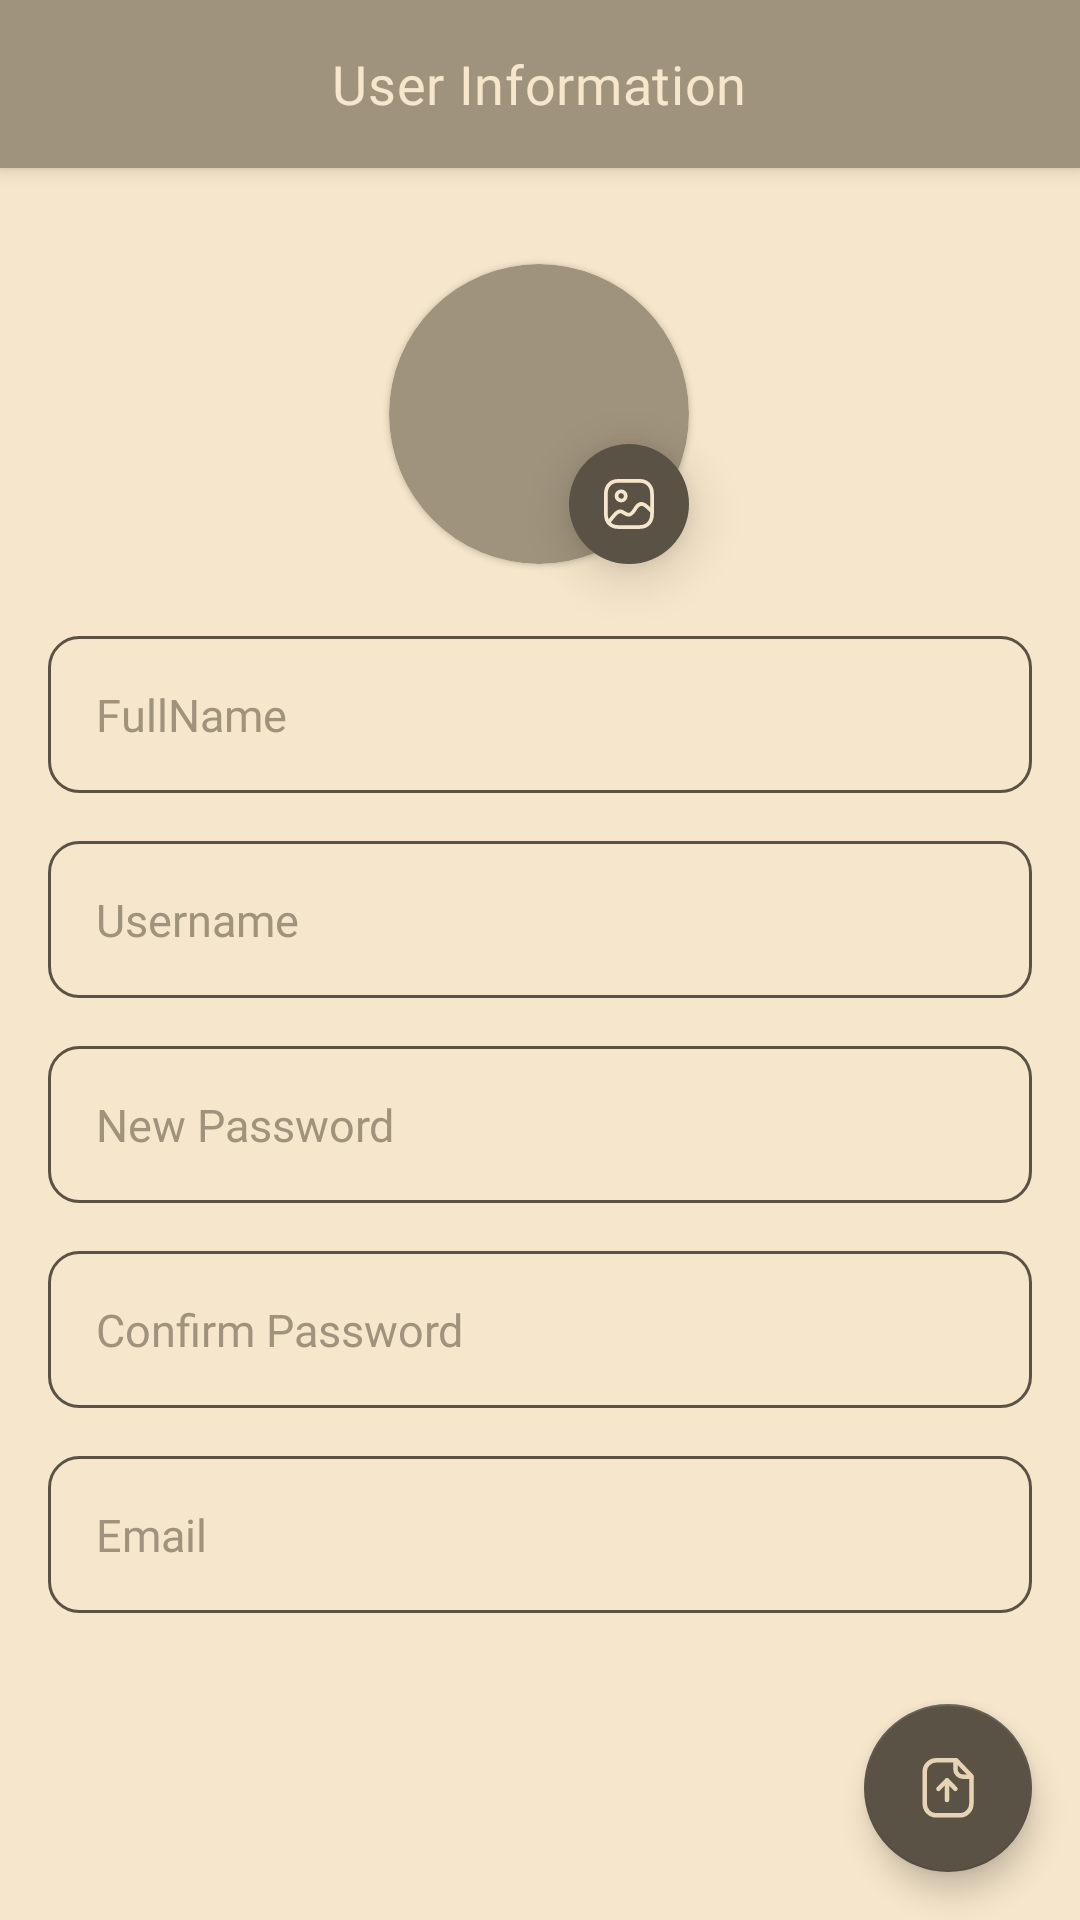

Icon bounding boxes for this 1080px×1920px phone screenshot, format (x1, y1, x2, y2):
update: (864, 1704, 1032, 1872)
